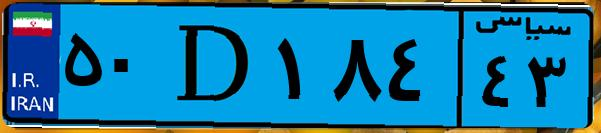0: (110, 28, 158, 98)
1: (270, 28, 330, 110)
3: (525, 38, 570, 115)
4: (385, 28, 445, 110), (475, 38, 525, 113)
5: (57, 26, 110, 100)
8: (330, 28, 385, 110)
D: (158, 12, 270, 120)
